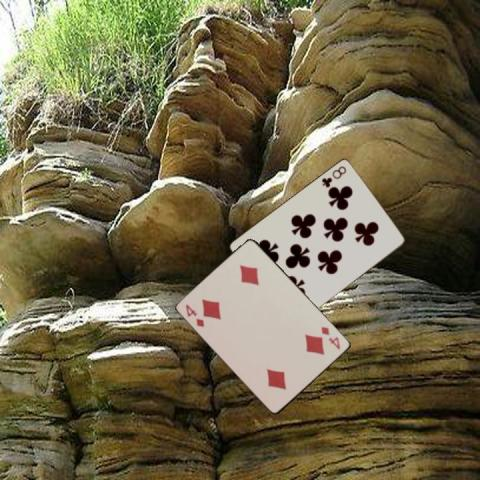4d: (318, 323, 342, 351), (183, 301, 206, 329)
8c: (319, 164, 348, 190)
